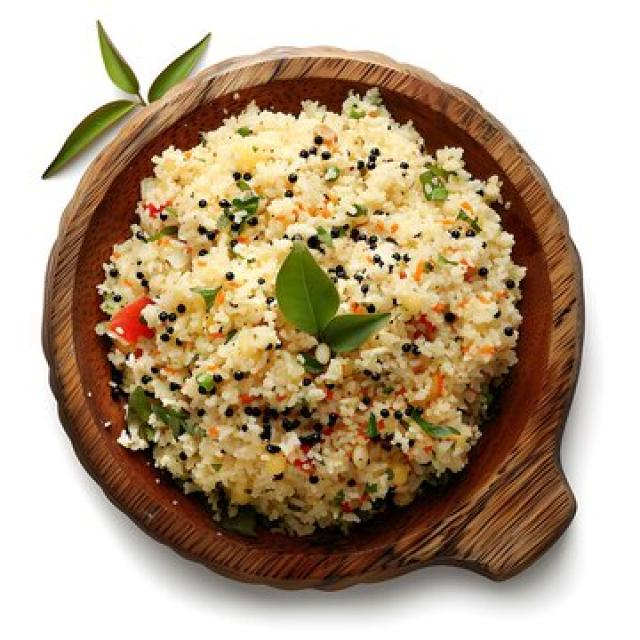UPMA: (96, 91, 524, 535)
